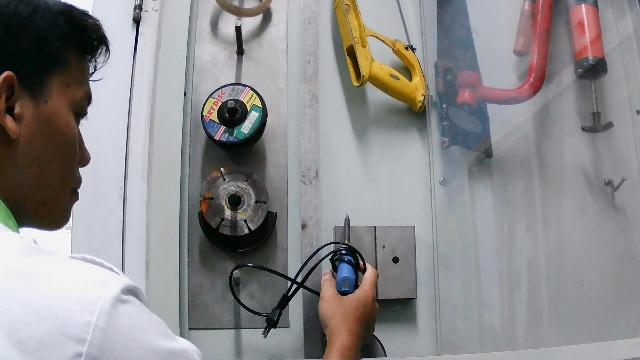solder_electrical: (277, 203, 394, 358)
